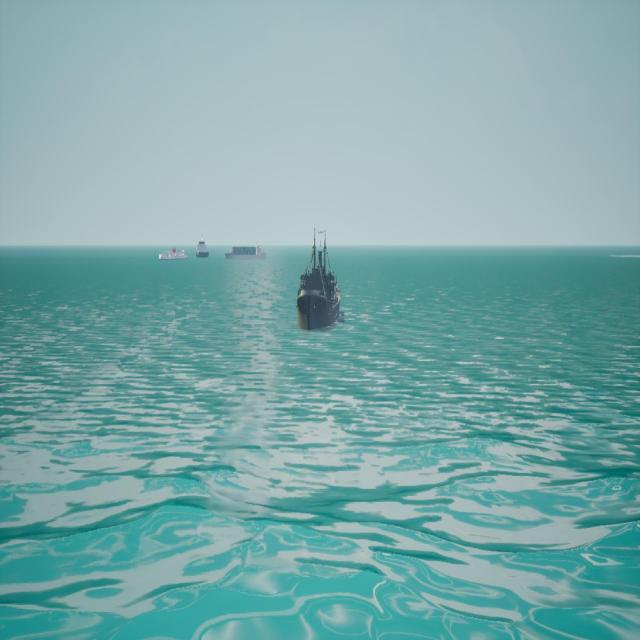fishing ship: (298, 230, 341, 333)
